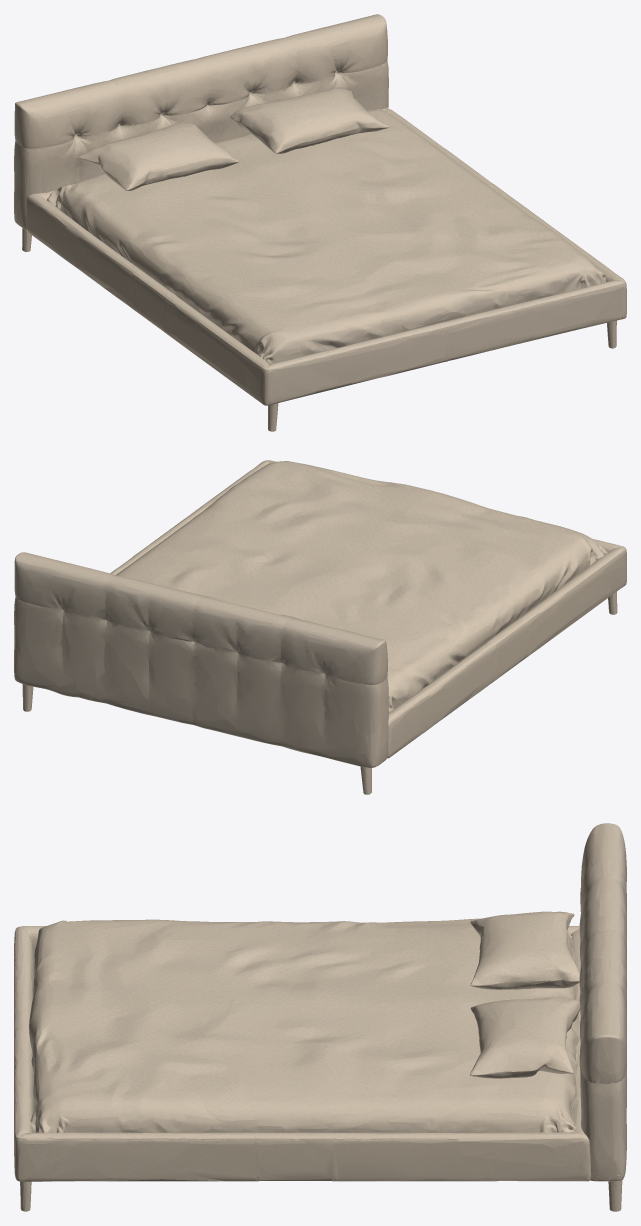
3 renders of one model, top to bottom at view 1: azimuth 30°, elevation 25°; view 2: azimuth 150°, elevation 25°; view 3: azimuth 270°, elevation 25°, orthographic. The views are drawn at different scales.
Bounding box in the file's own units: 1.58 × 0.6225 × 1.9.
Materials: 1 (1 with a texture image).
